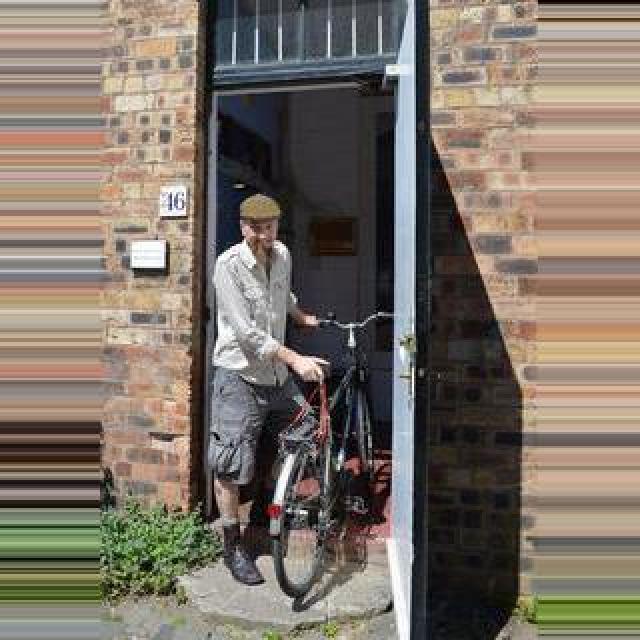MC-Bike: (208, 202, 328, 586)
Person: (265, 316, 387, 608)
